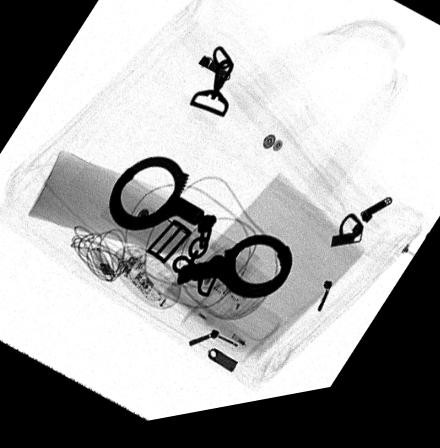HandCuffs: (108, 162, 293, 308)
